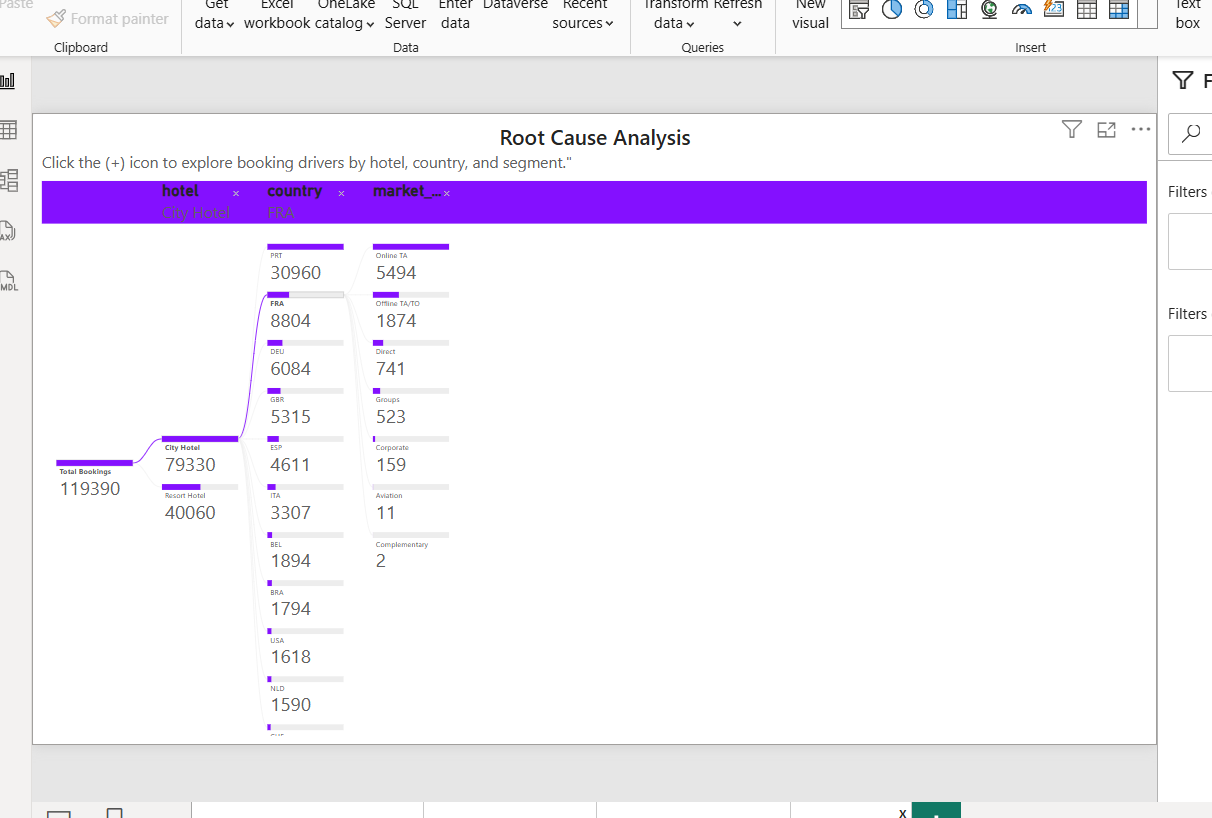

This screenshot's page, from the dashboard's own definition file:
{"tool":"powerbi","page":{"name":"Deep Dive","canvas":[1920,1080],"ordinal":3},"visuals":[{"type":"decompositionTreeVisual","title":"Root Cause Analysis","fields":{"Analyze":["hotel_bookings.Total Bookings"],"ExplainBy":["Dim_Hotel.hotel","hotel_bookings.country","hotel_bookings.market_segment"]},"box":[0,0,1920,1080],"z":0}]}

Visuals, with their boxes on the page's 1920x1080 design canvas (x1, y1, x2, y2). These are canvas units, not pixel positions in the 1212x818 screenshot, which may show the page scaled, cropped or inside an application window:
"Root Cause Analysis" decompositionTreeVisual: [0, 0, 1920, 1080]
